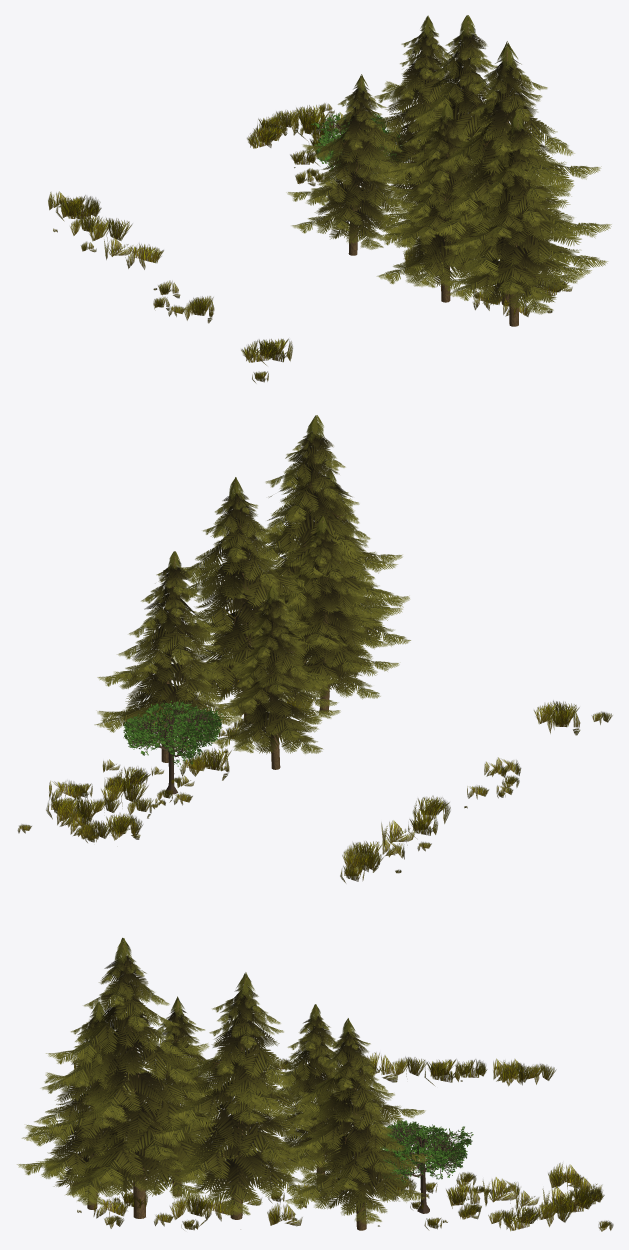
3 views of the same model, one above another, from view 1: azimuth 30°, elevation 25°; view 2: azimuth 150°, elevation 25°; view 3: azimuth 270°, elevation 25° (orthographic). The views are drawn at different scales.
Visible parts, largest first — view 1: Low Poly Stylized 2D Grass.1548; view 2: Low Poly Stylized 2D Grass.1548; view 3: Low Poly Stylized 2D Grass.1548.
Part boxes in pixels (x1,y1,x2,y2): Low Poly Stylized 2D Grass.1548: (48,15,611,382); Low Poly Stylized 2D Grass.1548: (17,415,612,882); Low Poly Stylized 2D Grass.1548: (17,937,613,1231).
Bounding box in the file's own units: 19.65 × 13.46 × 26.64.
5 materials, 4 textured.
